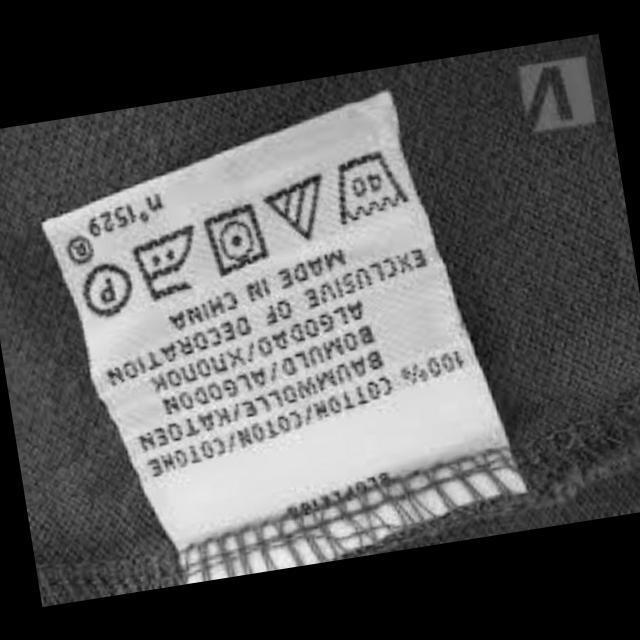40C: (325, 140, 414, 228)
iron_medium: (125, 220, 209, 304)
non_chlorine_bleach: (256, 170, 334, 250)
normal_dry_clean_solvents: (73, 255, 138, 325)
tumble_dry_low: (197, 198, 276, 284)
